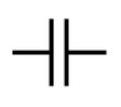Capacitor: (34, 15, 83, 87)
